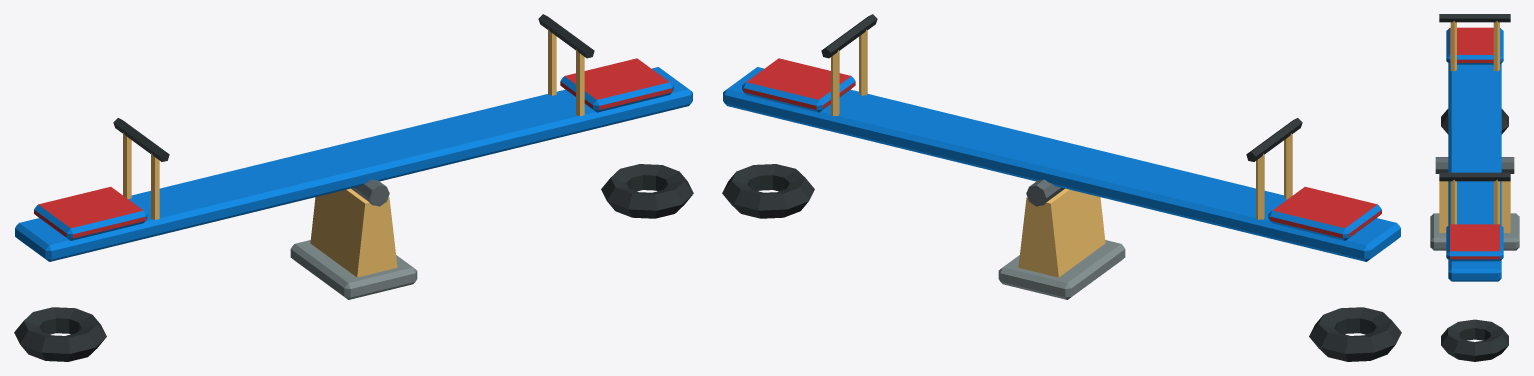
Rendered from wippe.glb.
The picture shows the model from 3 angles, left to right: view 1: azimuth 30°, elevation 25°; view 2: azimuth 150°, elevation 25°; view 3: azimuth 270°, elevation 25°; orthographic projection. The views are drawn at different scales.
Parts seen in each view (by area): view 1: brett-m, wippe-m; view 2: brett-m, wippe-m; view 3: brett-m, wippe-m.
Part boxes in pixels (bbox=[...]): brett-m: bbox=[15, 14, 692, 261]; wippe-m: bbox=[14, 164, 693, 361]; brett-m: bbox=[723, 14, 1400, 261]; wippe-m: bbox=[722, 164, 1401, 361]; brett-m: bbox=[1439, 14, 1510, 281]; wippe-m: bbox=[1430, 109, 1519, 361].
Bounding box in the file's own units: 3.3 × 0.9071 × 0.5.
